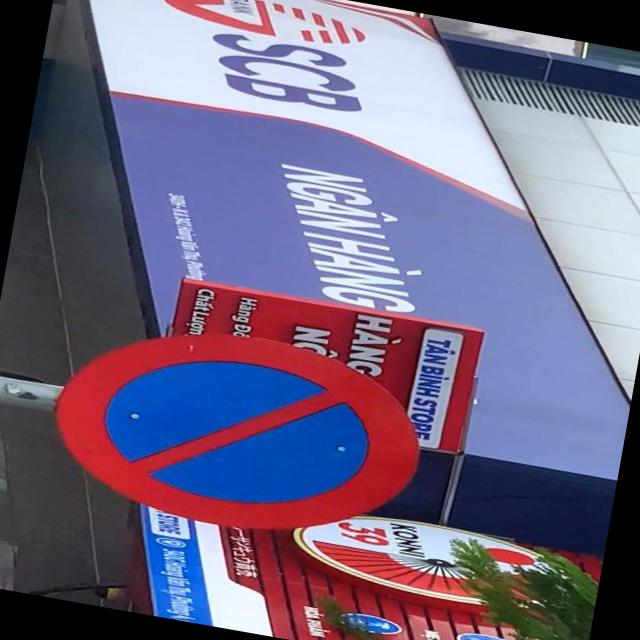P-131a: (41, 305, 436, 556)
